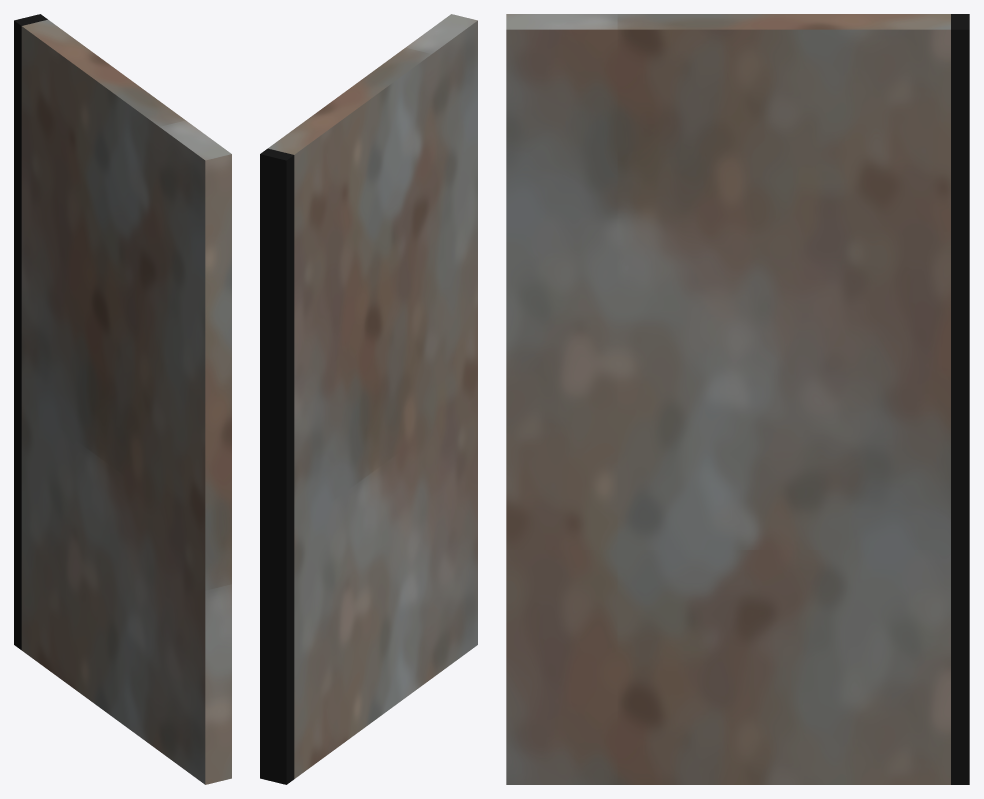
The model's file is Gate Door.fbx.
The picture shows the model from 3 angles, left to right: view 1: azimuth 30°, elevation 25°; view 2: azimuth 150°, elevation 25°; view 3: azimuth 270°, elevation 25°; orthographic projection. The views are drawn at different scales.
Visible parts, largest first — view 1: bare metal 1 Mesh (1), carbon dark grey Mesh (1); view 2: bare metal 1 Mesh (1), carbon dark grey Mesh (1); view 3: bare metal 1 Mesh (1), carbon dark grey Mesh (1).
Part boxes in pixels (<box>): bare metal 1 Mesh (1): <box>21,19,231,784</box>; carbon dark grey Mesh (1): <box>14,14,47,649</box>; bare metal 1 Mesh (1): <box>268,14,477,778</box>; carbon dark grey Mesh (1): <box>260,148,294,784</box>; bare metal 1 Mesh (1): <box>506,14,950,784</box>; carbon dark grey Mesh (1): <box>951,14,969,784</box>.
Size of what is drawn, in the model's own units: 0.1 by 2.25 by 1.25.
